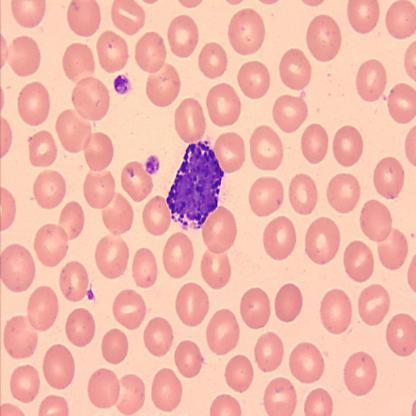Basophil: (162, 138, 227, 234)
